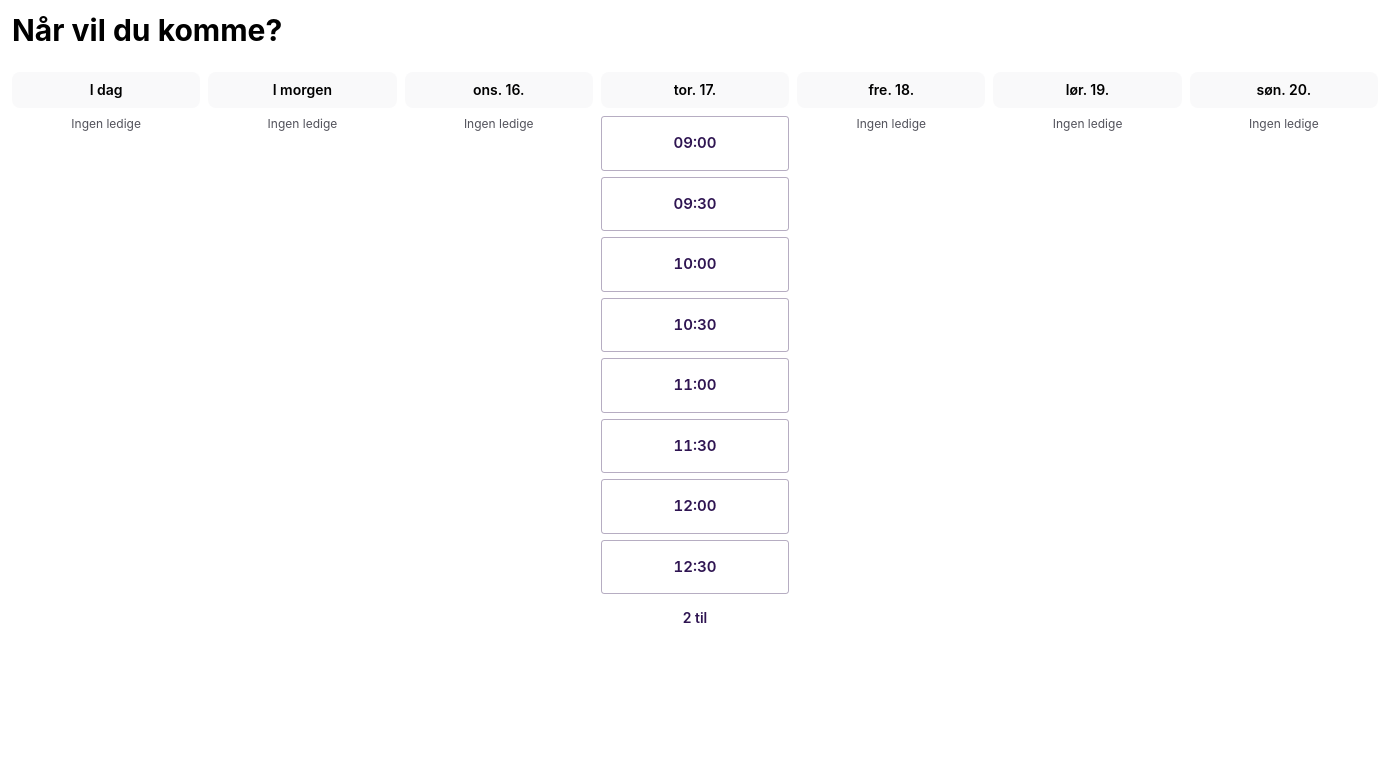
Scenario: TimeScreen — layout="adaptive" › moves focus to the first revealed time when a day unfolds
What coordinates should you click on to do the following:
click the button "2 til"
I would click on:
 (695, 618)
Its box is [601,602,789,634].
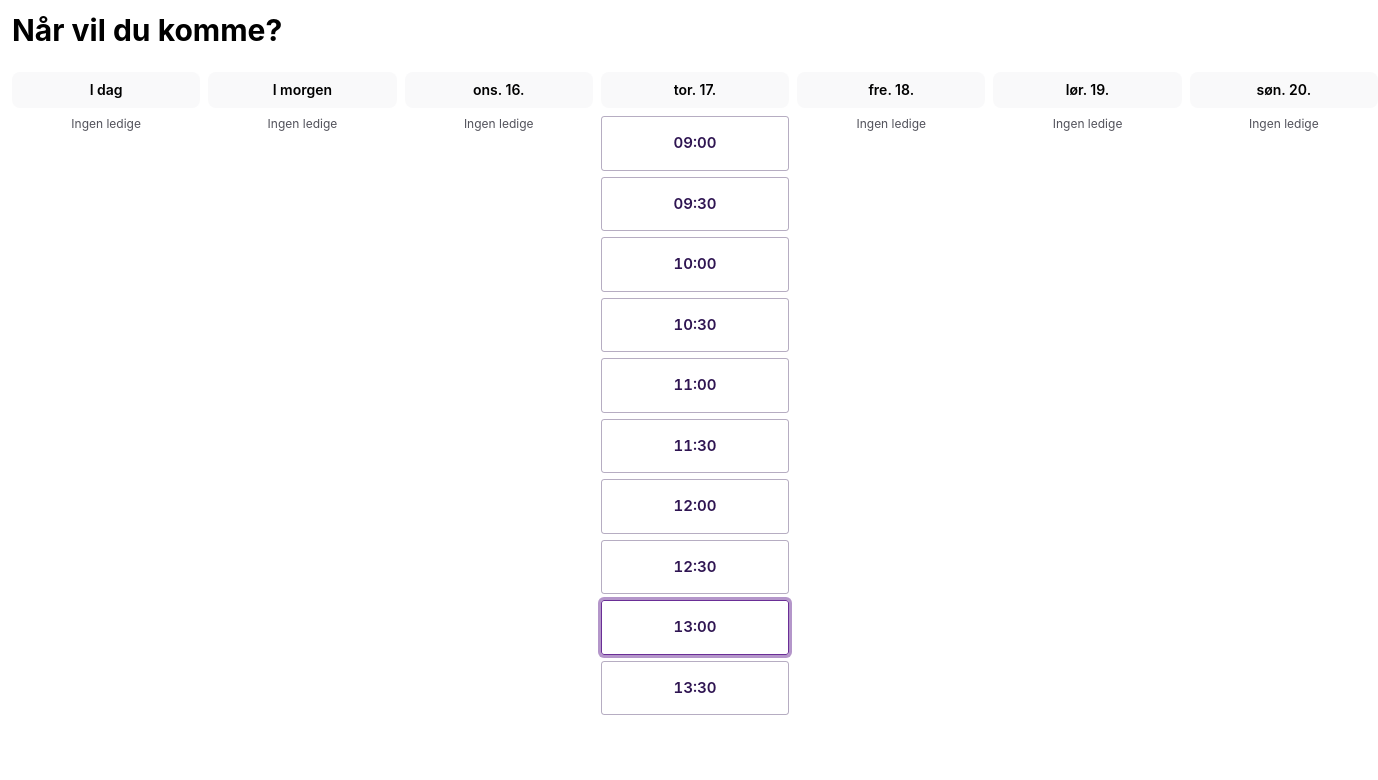
expect the button "13:00" is shown: met, box [601,600,789,654]
